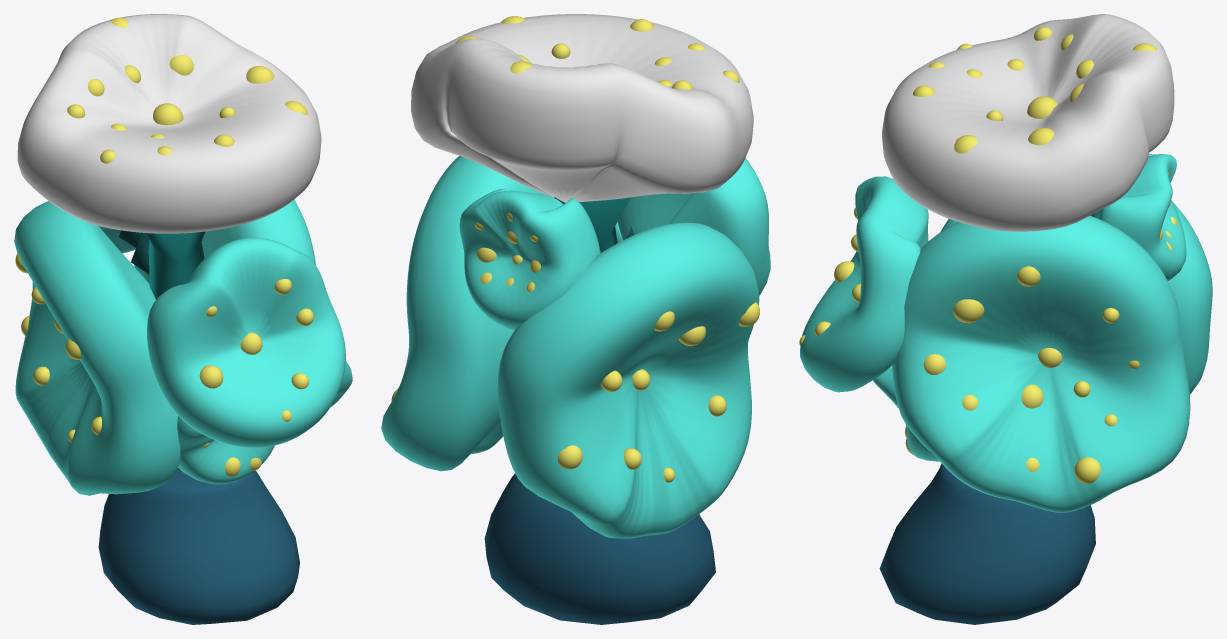
Rendered from Constellated Ganglion Tray (Male, Juvenile).fbx.
The picture shows the model from 3 angles, left to right: view 1: azimuth 30°, elevation 25°; view 2: azimuth 150°, elevation 25°; view 3: azimuth 270°, elevation 25°; orthographic projection. The views are drawn at different scales.
Visible parts, largest first — view 1: Cube.018, Cube.016, Cube.017, Cube.021, Cube.006, Cube.011, Cube.005, Sphere.046, Cube.013; view 2: Cube.016, Cube.018, Cube.006, Cube.021, Cube.012, Cube.017, Cube.005; view 3: Cube.006, Cube.018, Cube.021, Cube.017, Cube.012, Cube.016, Cube.011, Sphere.039, Sphere.036.
Part boxes in pixels (x1,y1,x2,y2): Cube.018: [17, 14, 321, 233]; Cube.016: [14, 201, 180, 495]; Cube.017: [147, 237, 345, 447]; Cube.021: [98, 468, 299, 624]; Cube.006: [134, 199, 352, 406]; Cube.011: [177, 416, 274, 484]; Cube.005: [146, 231, 204, 470]; Sphere.046: [153, 103, 183, 125]; Cube.013: [131, 234, 149, 274]; Cube.016: [497, 223, 759, 538]; Cube.018: [411, 14, 753, 202]; Cube.006: [381, 155, 616, 471]; Cube.021: [484, 473, 715, 624]; Cube.012: [459, 189, 600, 330]; Cube.017: [616, 158, 770, 295]; Cube.005: [554, 197, 630, 252]; Cube.006: [892, 216, 1190, 512]; Cube.018: [882, 14, 1174, 231]; Cube.021: [879, 463, 1095, 624]; Cube.017: [800, 176, 928, 392]; Cube.012: [1095, 154, 1186, 280]; Cube.016: [940, 201, 1212, 394]; Cube.011: [873, 366, 939, 461]; Sphere.039: [953, 299, 984, 323]; Sphere.036: [1074, 457, 1100, 483].
Bounding box in the file's own units: 87.67 × 159 × 107.
